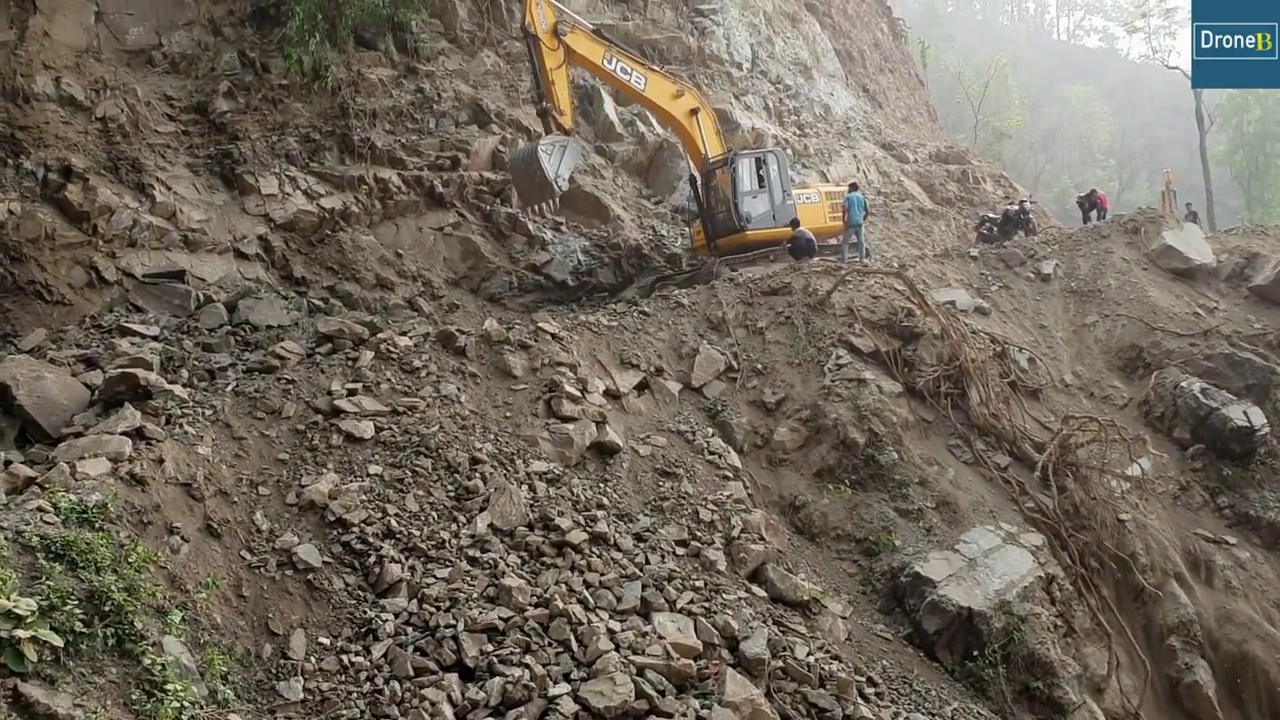excavator: (509, 1, 873, 264)
person: (842, 182, 871, 264), (785, 219, 816, 257), (1077, 186, 1108, 222), (1185, 201, 1201, 232)
